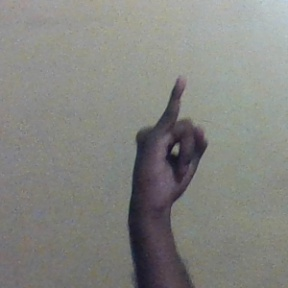I: (130, 74, 210, 211)
